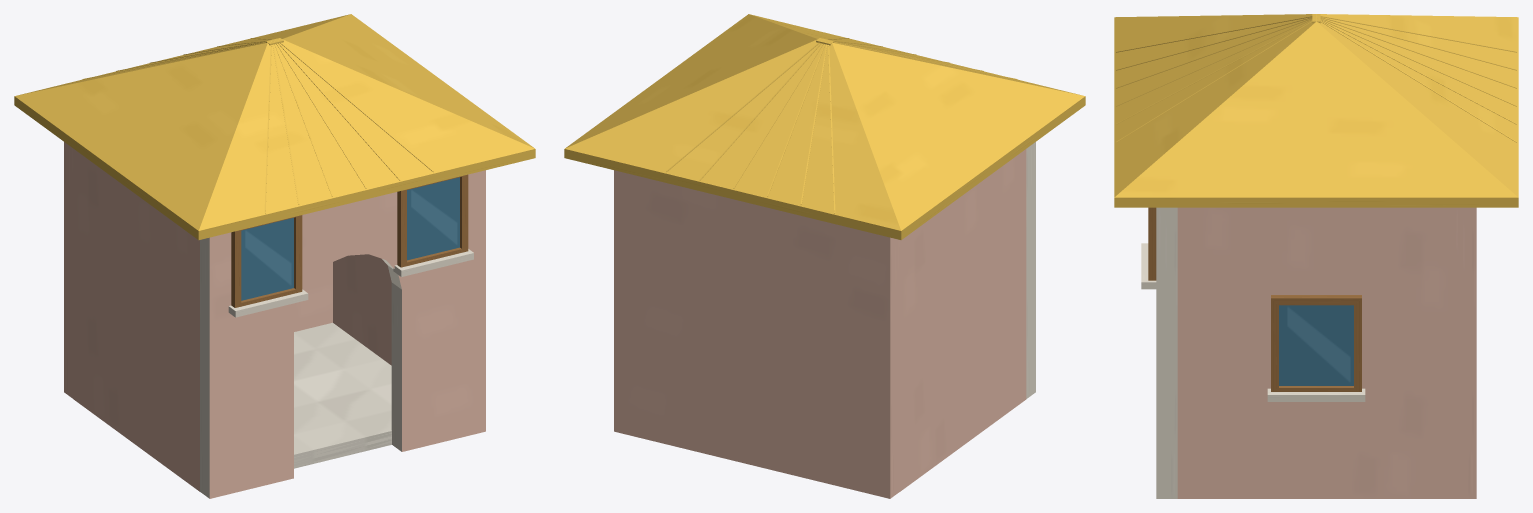
The model's file is town_house_coral.glb.
3 views of the same model, side by side, from view 1: azimuth 30°, elevation 25°; view 2: azimuth 150°, elevation 25°; view 3: azimuth 270°, elevation 25° (orthographic). The views are drawn at different scales.
Parts seen in each view (by area): view 1: town_house_coral; view 2: town_house_coral; view 3: town_house_coral.
Boxes of the visible parts, <box> form: town_house_coral: <box>14,14,535,498</box>; town_house_coral: <box>564,14,1085,498</box>; town_house_coral: <box>1114,14,1518,498</box>.
Bounding box in the file's own units: 3.8 × 4 × 3.6.
6 materials, 6 textured.
